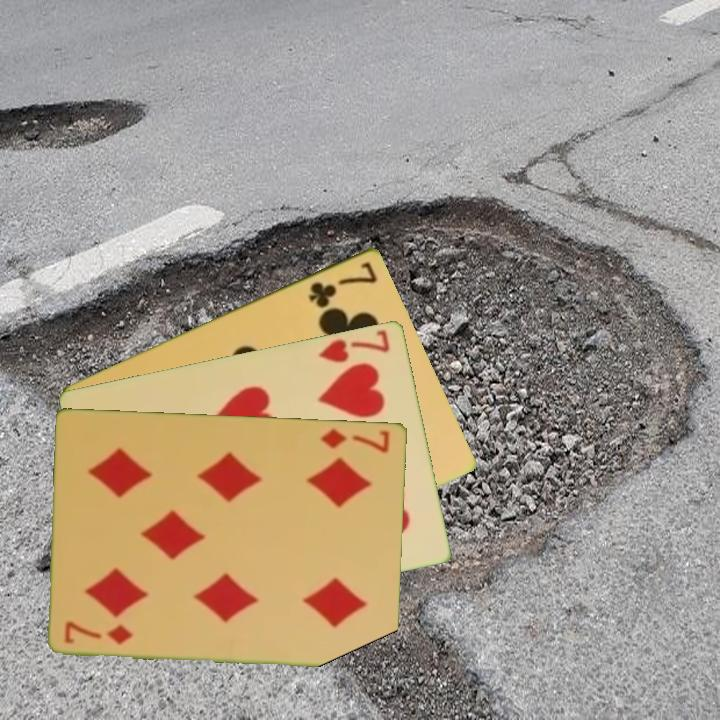7c: (305, 257, 380, 310)
7d: (317, 424, 393, 455), (61, 617, 137, 647)
7h: (315, 325, 393, 365)
